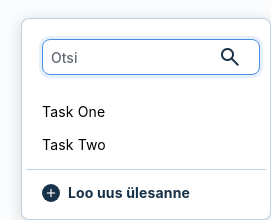
it: AddToTaskDropdown › search functionality › shows empty message when no tasks match
(page scrolled)
Expected: the text "Task One" is shown, [42, 101, 105, 122]
Type "xyz" into the field with placeholder "Otsi" at (151, 57), box [42, 39, 260, 75]
(page scrolled)
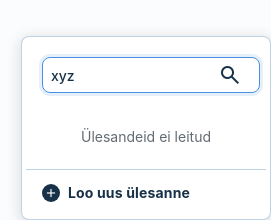
Expected: the button "Task One" is gone
